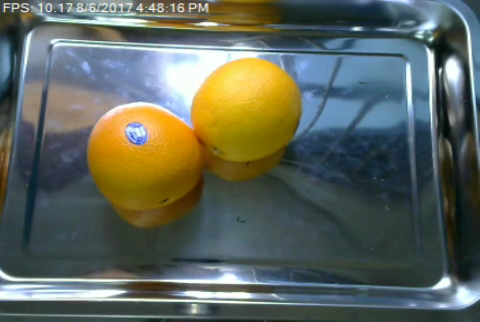Orange: (87, 101, 204, 210), (190, 58, 302, 161)
